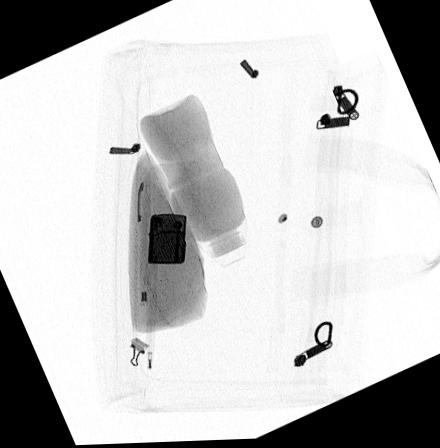Lighter: (148, 214, 188, 265)
